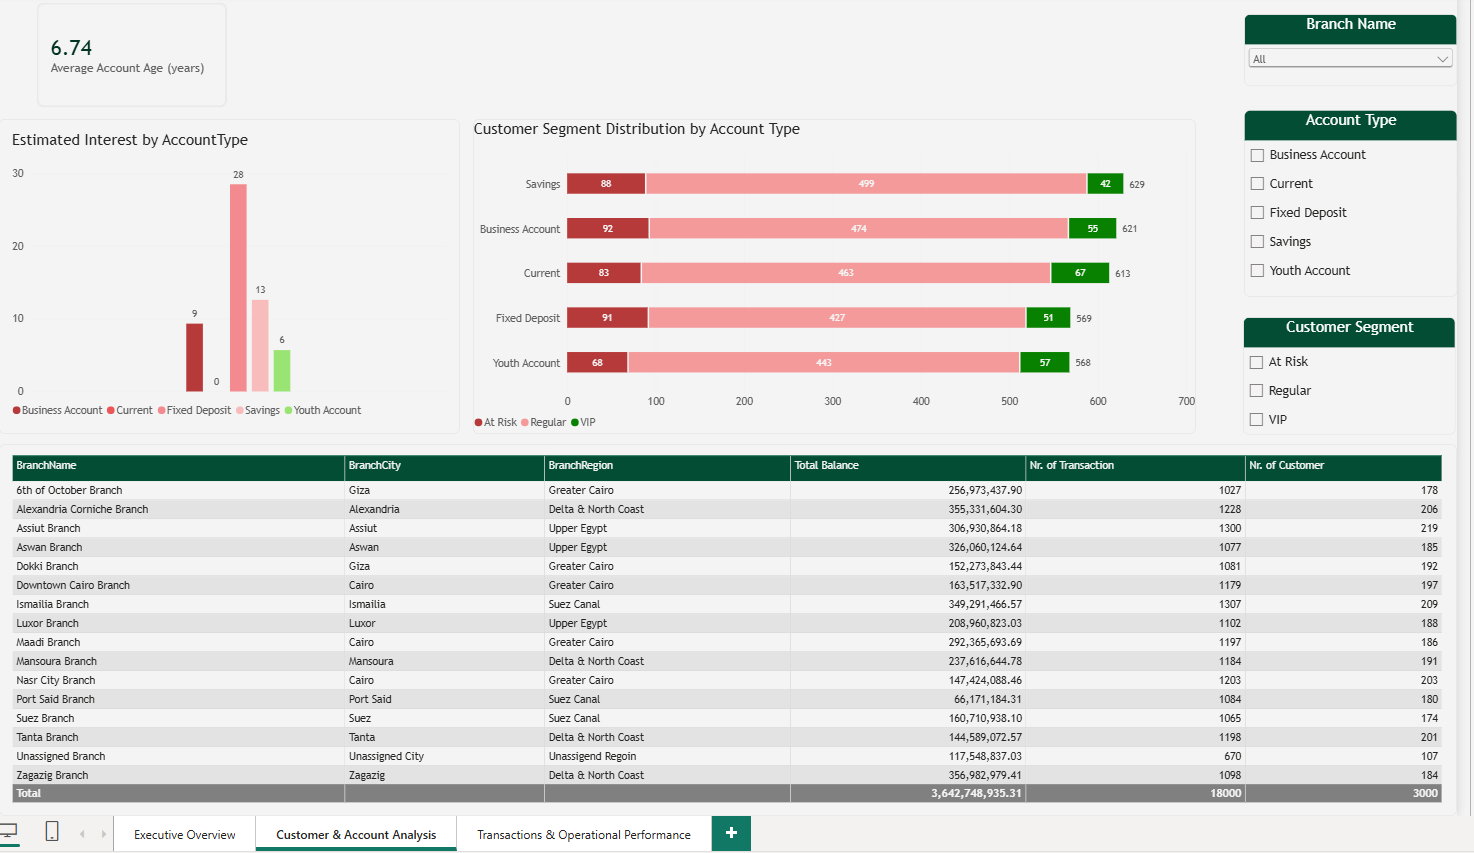

This screenshot's page, from the dashboard's own definition file:
{"tool":"powerbi","page":{"name":"Customer & Account Analysis","canvas":[1920,1080],"ordinal":1},"visuals":[{"type":"tableEx","fields":{"Values":["Balance_By_Branch.BranchName_final","Customers.BranchCity_final","Customers.BranchRegion_final","Sum(Customers.Balance)","CountNonNull(Transactions.TransactionID)","CountNonNull(Customers.CustomerID)"]},"box":[0,590,1920.3,490],"z":0},{"type":"clusteredColumnChart","title":" Estimated Interest by AccountType","fields":{"Series":["Customers.AccountTypeName"],"Y":["Sum(Customers.InterestRate)"]},"box":[0,162,607.2,414.9],"z":1000},{"type":"slicer","title":"Account Type ","fields":{"Values":["AccountTyes.AccountTypeName"]},"box":[1639.8,150.1,280.5,246.3],"z":2000},{"type":"slicer","title":"Branch Name","fields":{"Values":["Balance_By_Branch.BranchName_final"]},"box":[1639.8,23.7,280.5,94.8],"z":3000},{"type":"slicer","title":"Customer Segment","fields":{"Values":["Customers.CustomerSegment"]},"box":[1638.4,422.8,280.1,154.7],"z":4000},{"type":"cardVisual","fields":{"Data":["Dax Measures.Average Account Age (Years)"]},"box":[50,9.2,250,137],"z":5000},{"type":"barChart","title":"Customer Segment Distribution by Account Type","fields":{"Category":["Customers.AccountTypeName"],"Series":["Customers.CustomerSegment"],"Y":["CountNonNull(Customers.CustomerID)"]},"box":[624.3,162,952.2,414.9],"z":6000}]}

Visuals, with their boxes on the page's 1920x1080 design canvas (x1, y1, x2, y2). These are canvas units, not pixel positions in the 1474x853 screenshot, which may show the page scaled, cropped or inside an application window:
tableEx - Balance_By_Branch.BranchName_final x Customers.BranchCity_final: bbox=(0, 590, 1920, 1080)
" Estimated Interest by AccountType" clusteredColumnChart: bbox=(0, 162, 607, 577)
"Account Type " slicer: bbox=(1640, 150, 1920, 396)
"Branch Name" slicer: bbox=(1640, 24, 1920, 118)
"Customer Segment" slicer: bbox=(1638, 423, 1918, 578)
cardVisual - Dax Measures.Average Account Age (Years): bbox=(50, 9, 300, 146)
"Customer Segment Distribution by Account Type" barChart: bbox=(624, 162, 1576, 577)
